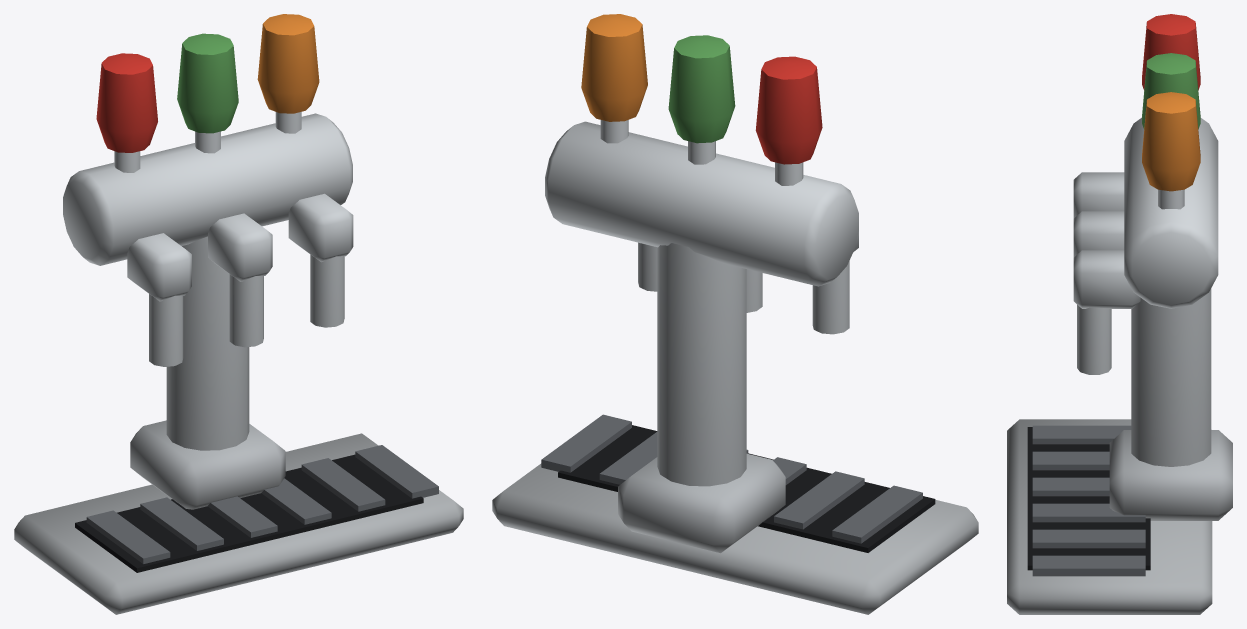
File: SM_DraftTower_3Tap_01.glb
3 renders of one model, left to right at view 1: azimuth 30°, elevation 25°; view 2: azimuth 150°, elevation 25°; view 3: azimuth 270°, elevation 25°, orthographic. The views are drawn at different scales.
Parts seen in each view (by area): view 1: SM_DraftTower_3Tap_01; view 2: SM_DraftTower_3Tap_01; view 3: SM_DraftTower_3Tap_01.
Boxes of the visible parts, x1,y1,x2,y2 form: SM_DraftTower_3Tap_01: (14,14,463,614); SM_DraftTower_3Tap_01: (492,14,978,614); SM_DraftTower_3Tap_01: (1007,14,1232,614).
Size of the model in its own units: 0.4 by 0.51 by 0.22.
Materials: 1 (1 with a texture image).
